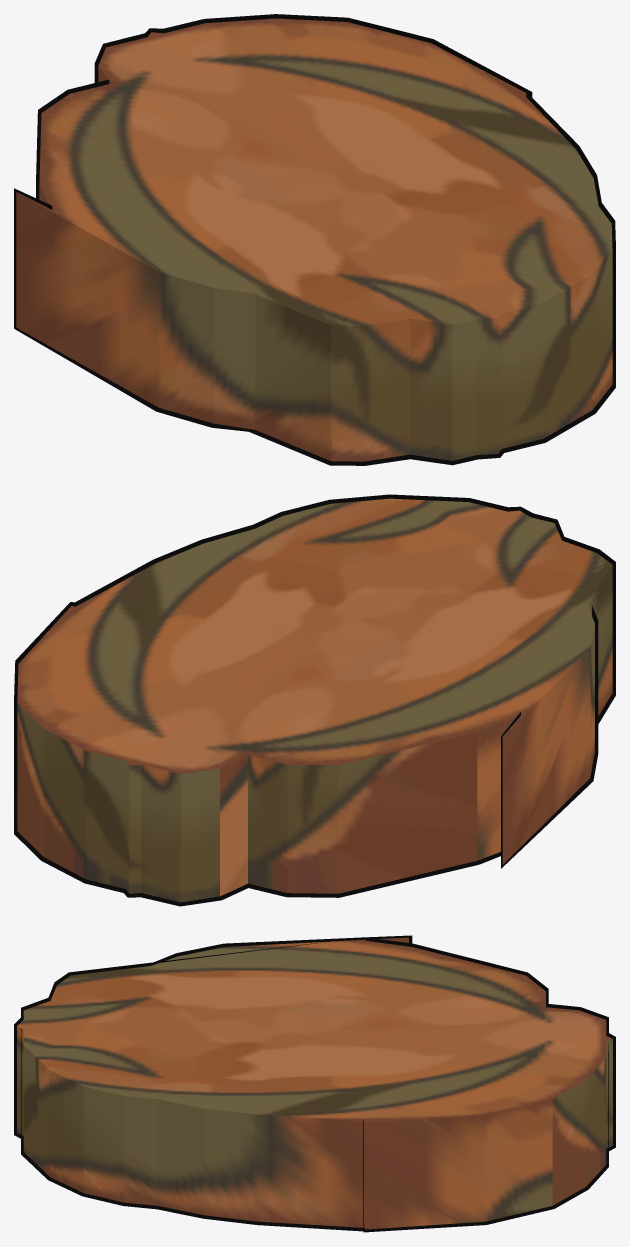
The model's file is Building_DryadHealingPod_Things_Building_Misc_DryadSphere_DryadSphereBack.glb.
3 renders of one model, top to bottom at view 1: azimuth 30°, elevation 25°; view 2: azimuth 150°, elevation 25°; view 3: azimuth 270°, elevation 25°, orthographic. The views are drawn at different scales.
Visible parts, largest first — view 1: Body, Outline; view 2: Body, Outline; view 3: Body, Outline.
Boxes of the visible parts, x1,y1,x2,y2 form: Body: (16, 18, 612, 461); Outline: (14, 14, 615, 465); Body: (17, 498, 612, 902); Outline: (14, 494, 615, 906); Body: (17, 937, 612, 1229); Outline: (14, 935, 615, 1232).
Bounding box in the file's own units: 0.9199 × 0.2607 × 1.25.
2 materials, 1 textured.
